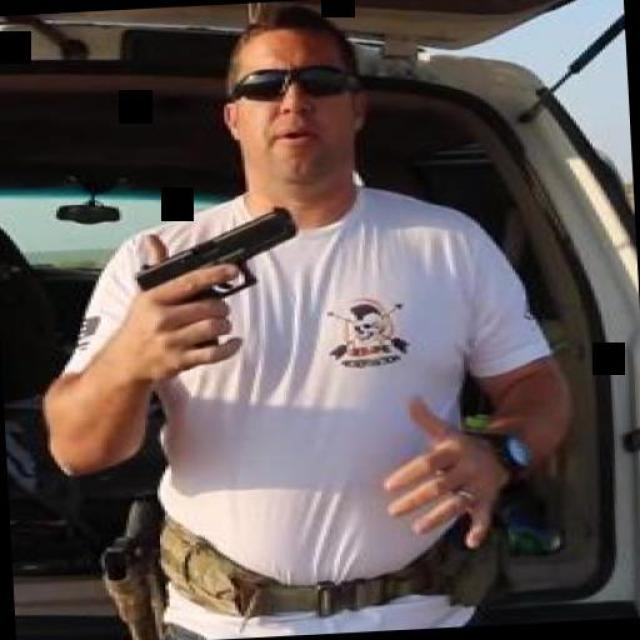gun: (125, 204, 303, 361)
